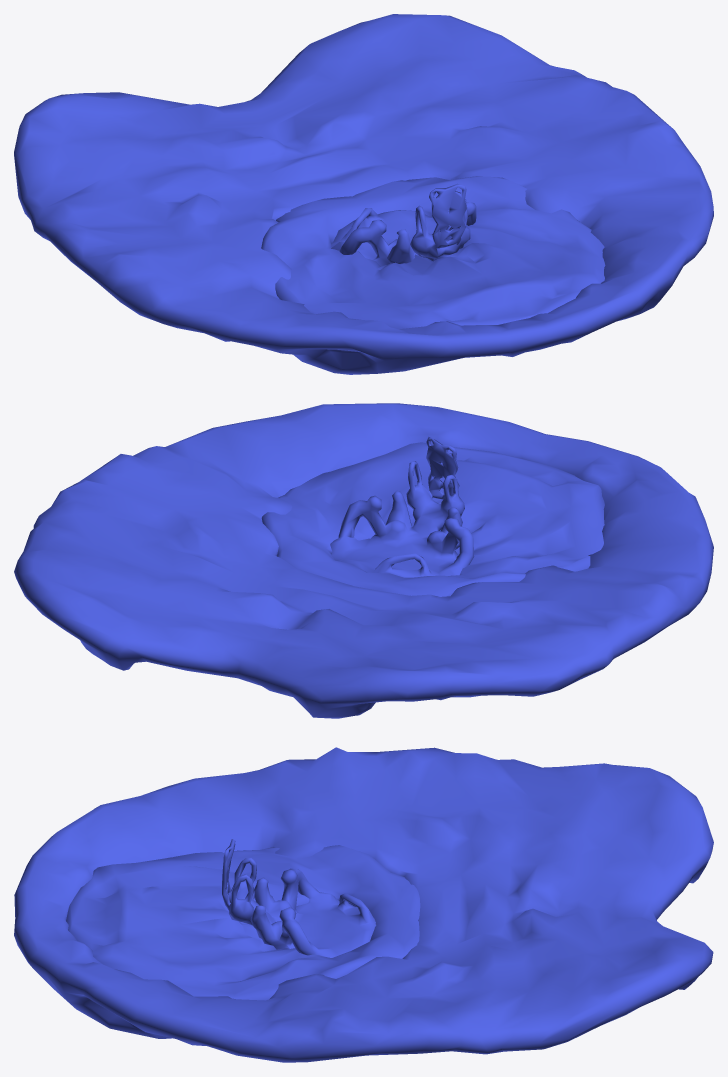
The model's file is mainfloor.glb.
3 renders of one model, top to bottom at view 1: azimuth 30°, elevation 25°; view 2: azimuth 150°, elevation 25°; view 3: azimuth 270°, elevation 25°, orthographic. The views are drawn at different scales.
Parts seen in each view (by area): view 1: Retopo_Layer_2; view 2: Retopo_Layer_2; view 3: Retopo_Layer_2.
Boxes of the visible parts, <box> form: Retopo_Layer_2: <box>14,14,713,374</box>; Retopo_Layer_2: <box>14,403,713,718</box>; Retopo_Layer_2: <box>14,747,713,1062</box>.
Size of the model in its own units: 27.22 by 5.21 by 27.66.
